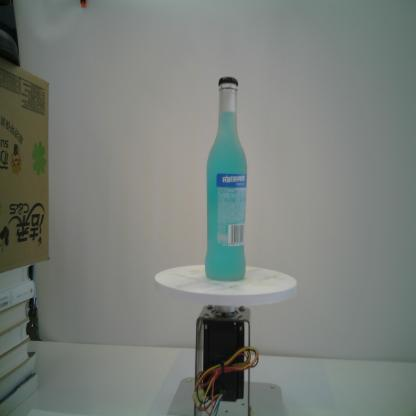Alcohol: (204, 75, 249, 282)
